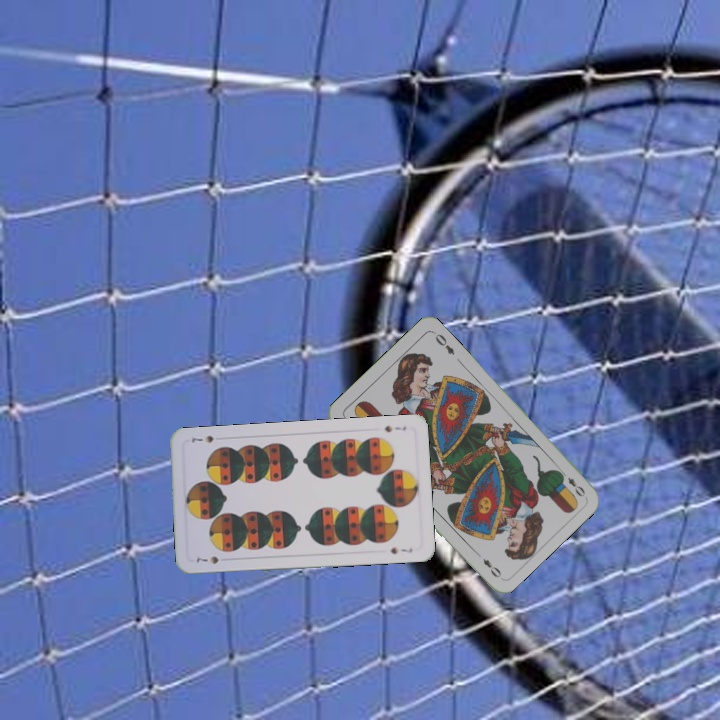EO: (556, 466, 588, 499)
S7: (192, 552, 221, 566), (380, 422, 409, 435)
